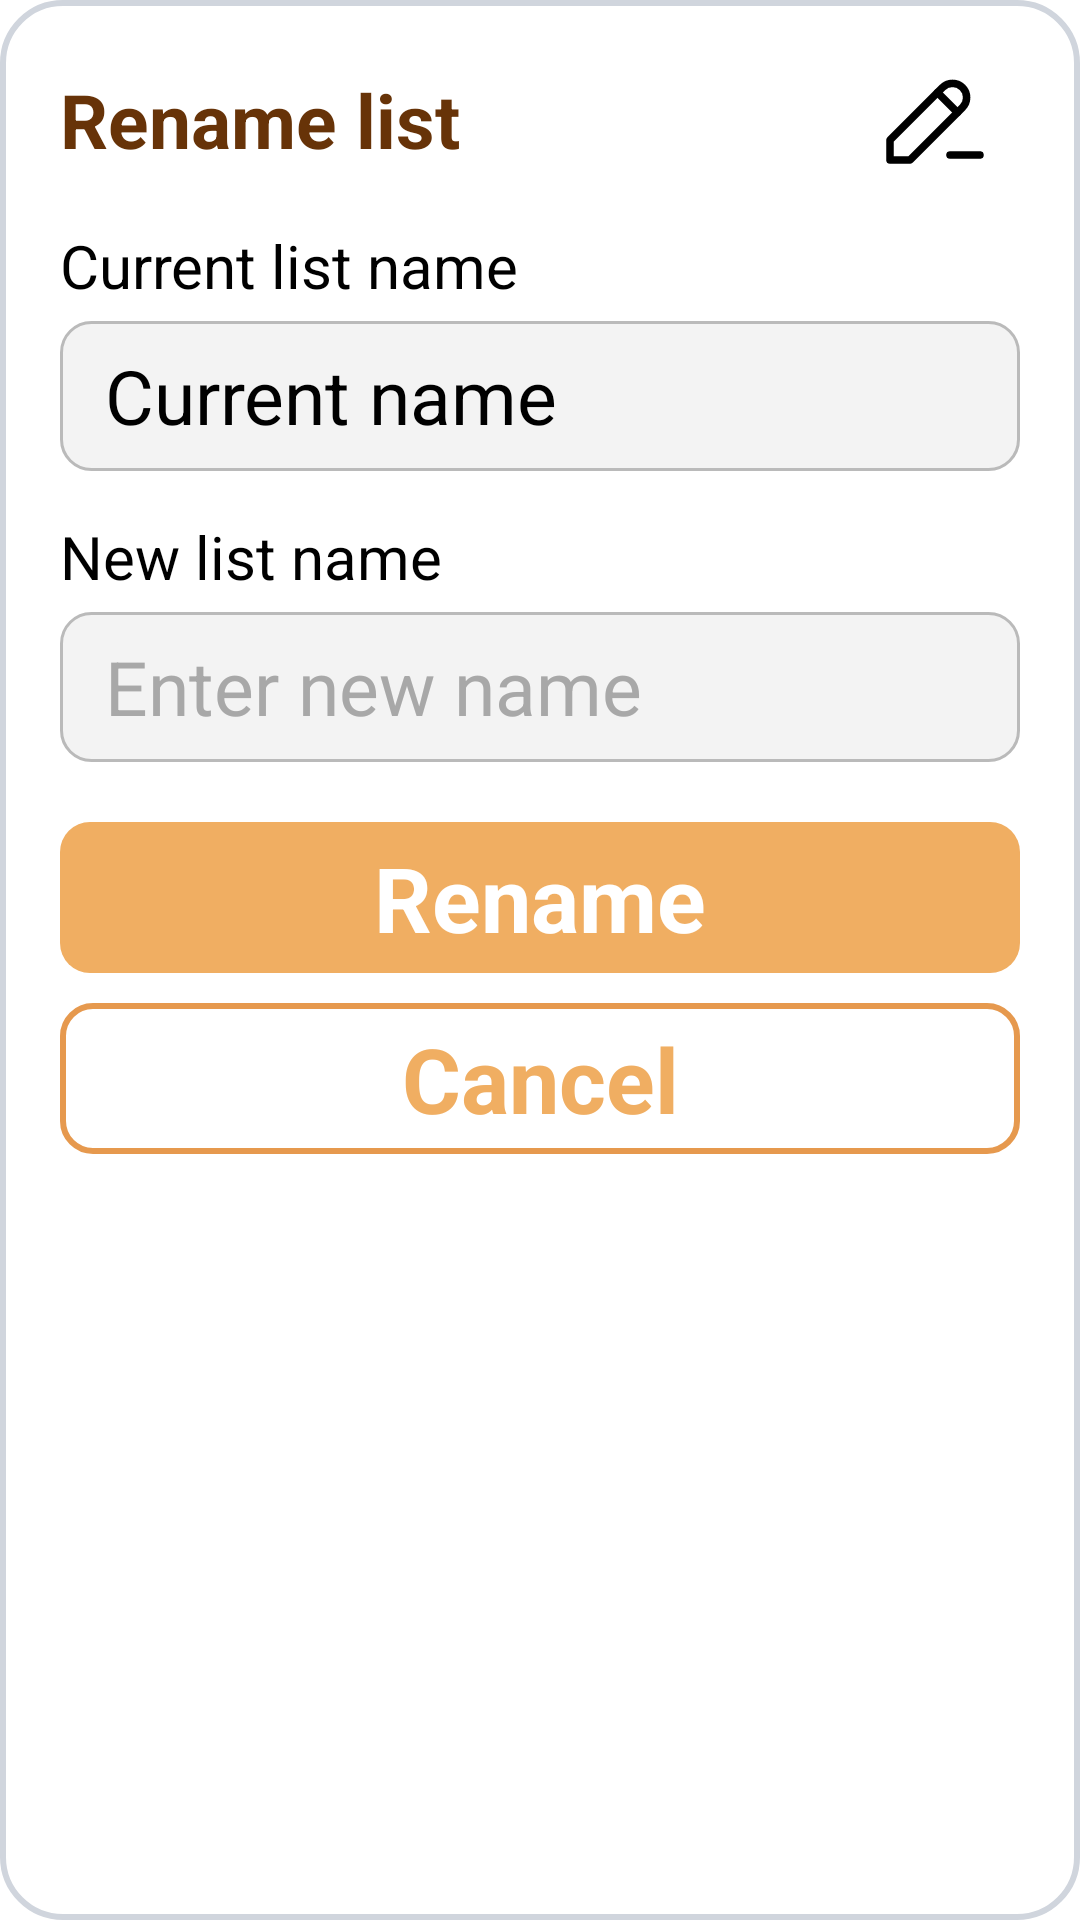

Icon click points for this 1080px×1920px phone screenshot, format [x,y]:
pencil: [935,121]
